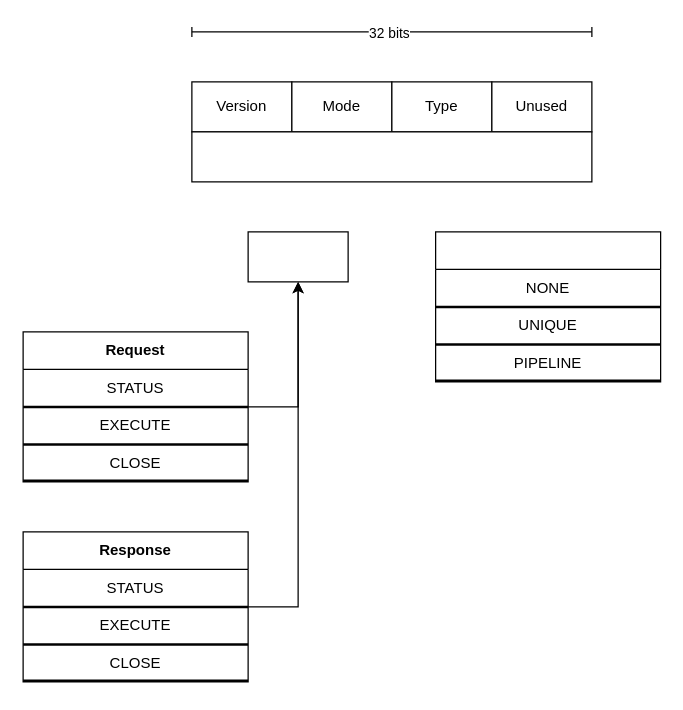
Image size: 683x710. Some labels were removed from this diagram. Here are the shapes that lost their labels. From the top down, the box of each, then its label:
(191, 131, 592, 182): PID
(247, 231, 348, 282): <<Enum>> Mode
(434, 231, 661, 382): <<Enum>> Type
